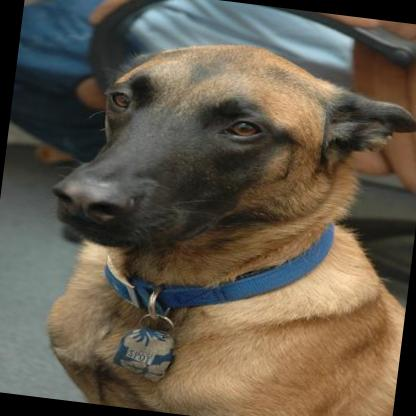malinois: (19, 19, 416, 416)
